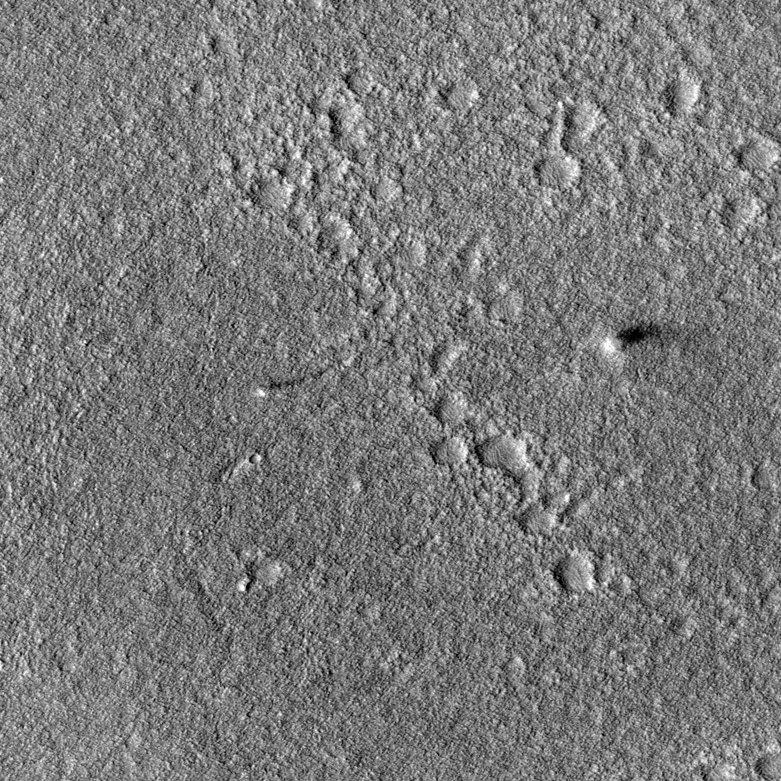dust_devil: (252, 362, 334, 399), (600, 318, 674, 357)
